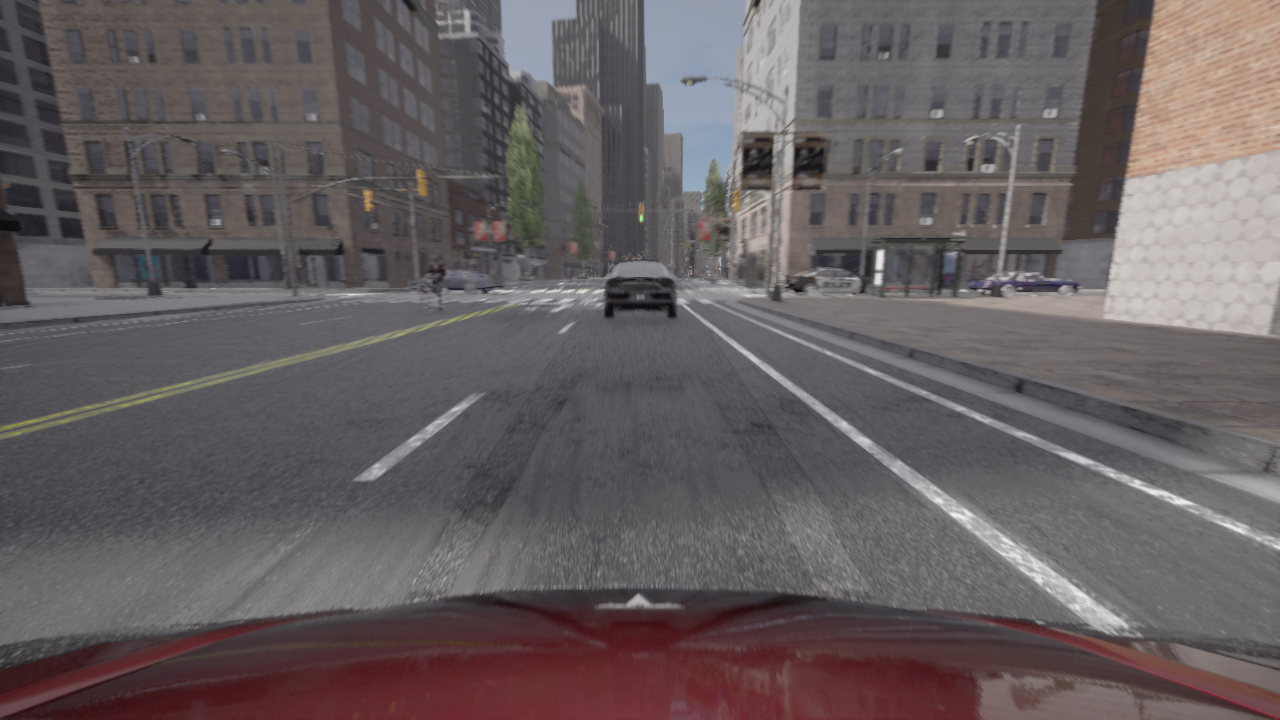cyclist: (0, 588, 1279, 719), (604, 258, 676, 318), (783, 265, 889, 295), (968, 273, 1081, 296), (407, 270, 505, 294), (422, 276, 448, 313)
